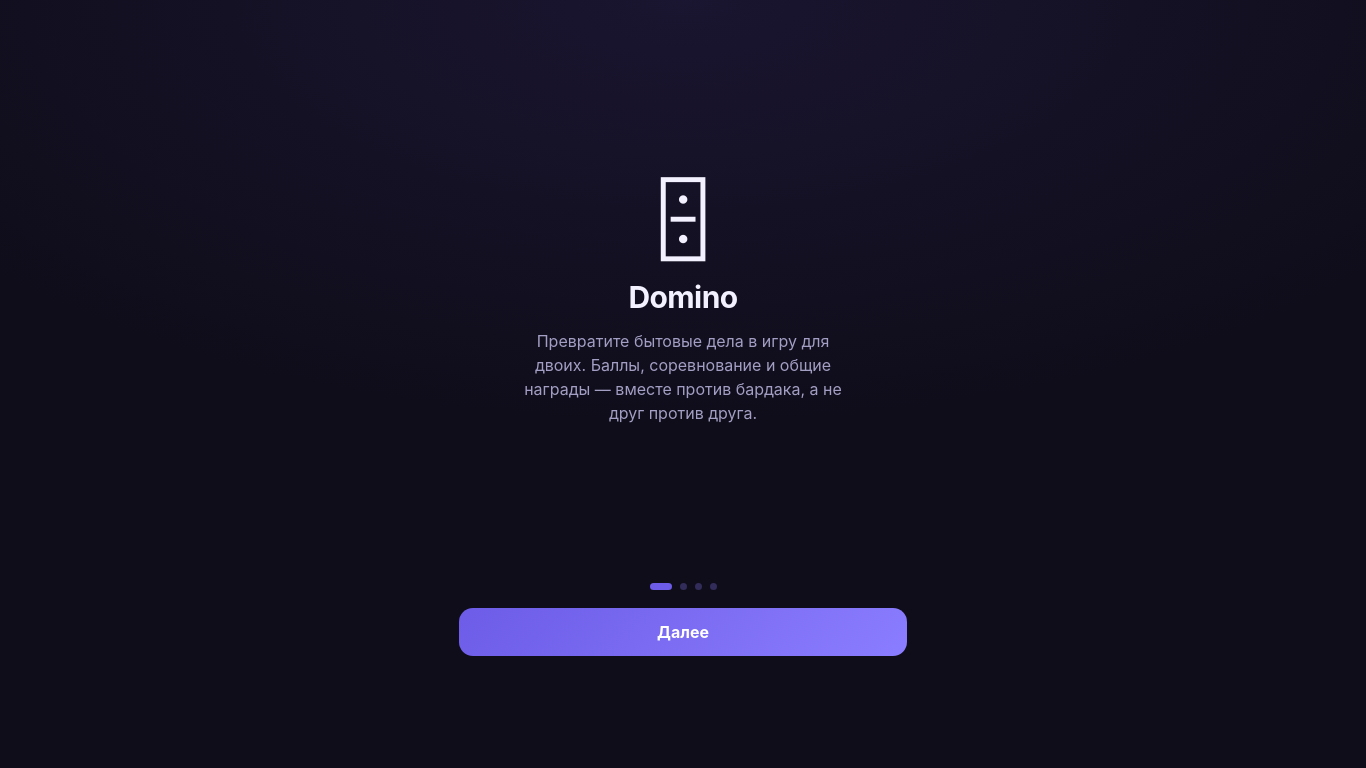
Test: Onboarding flow › walks through steps and starts the app
Check: the heading "Domino" is shown, box [628,279,738,315]
Click the button "Далее". click: (683, 632)
box: [459,608,907,656]
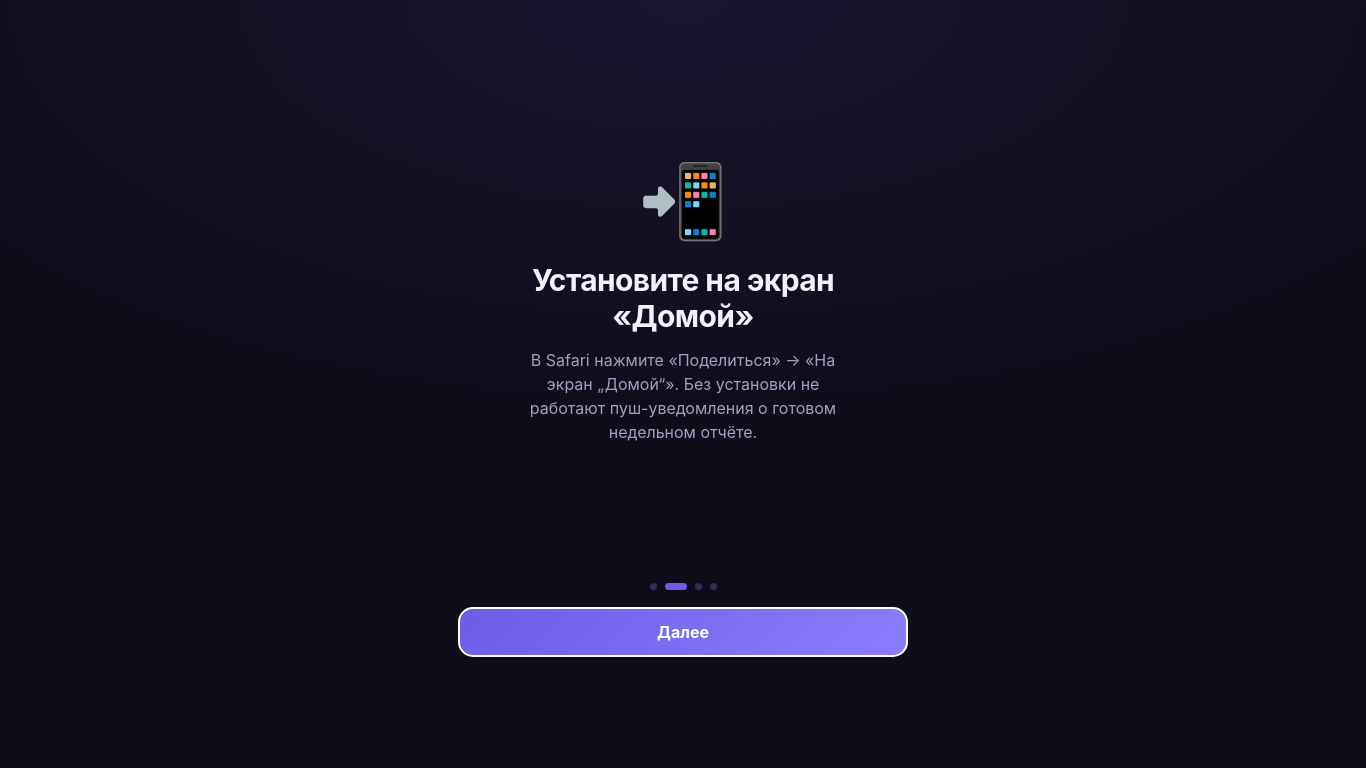
Click the button "Далее". click: (683, 632)
box: [459,608,907,656]
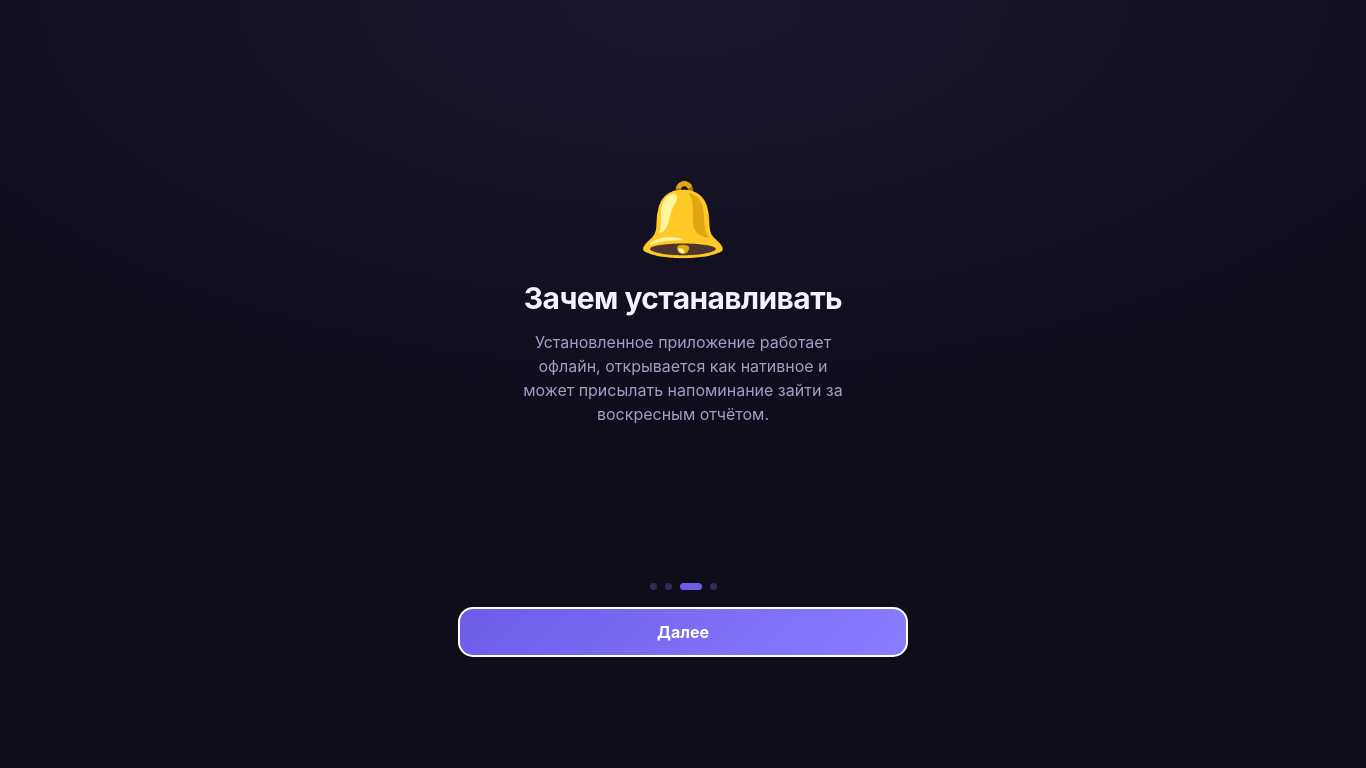
Click the button "Далее". click: (683, 632)
box: [459,608,907,656]
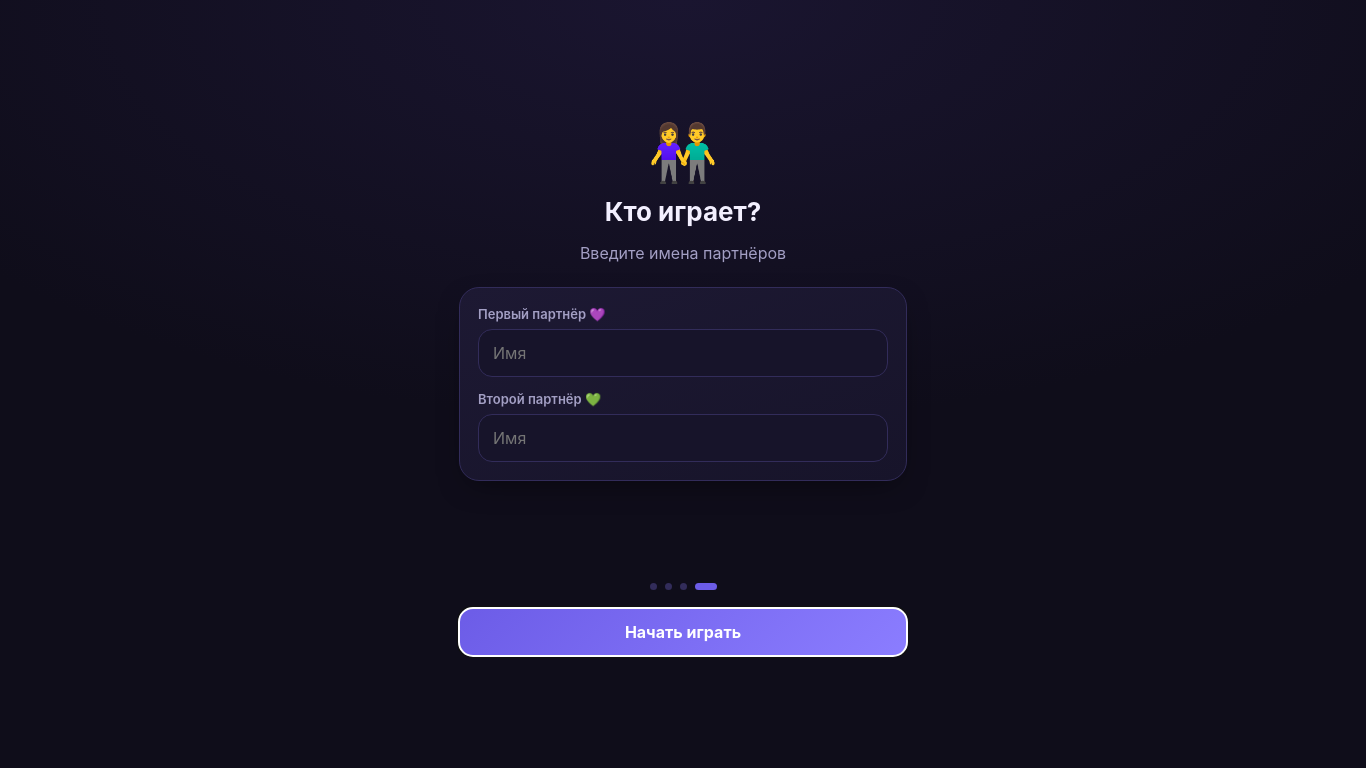
Type "Аня" into the field named "Имя первого партнёра". click: (683, 353)
box: [478,329,888,377]
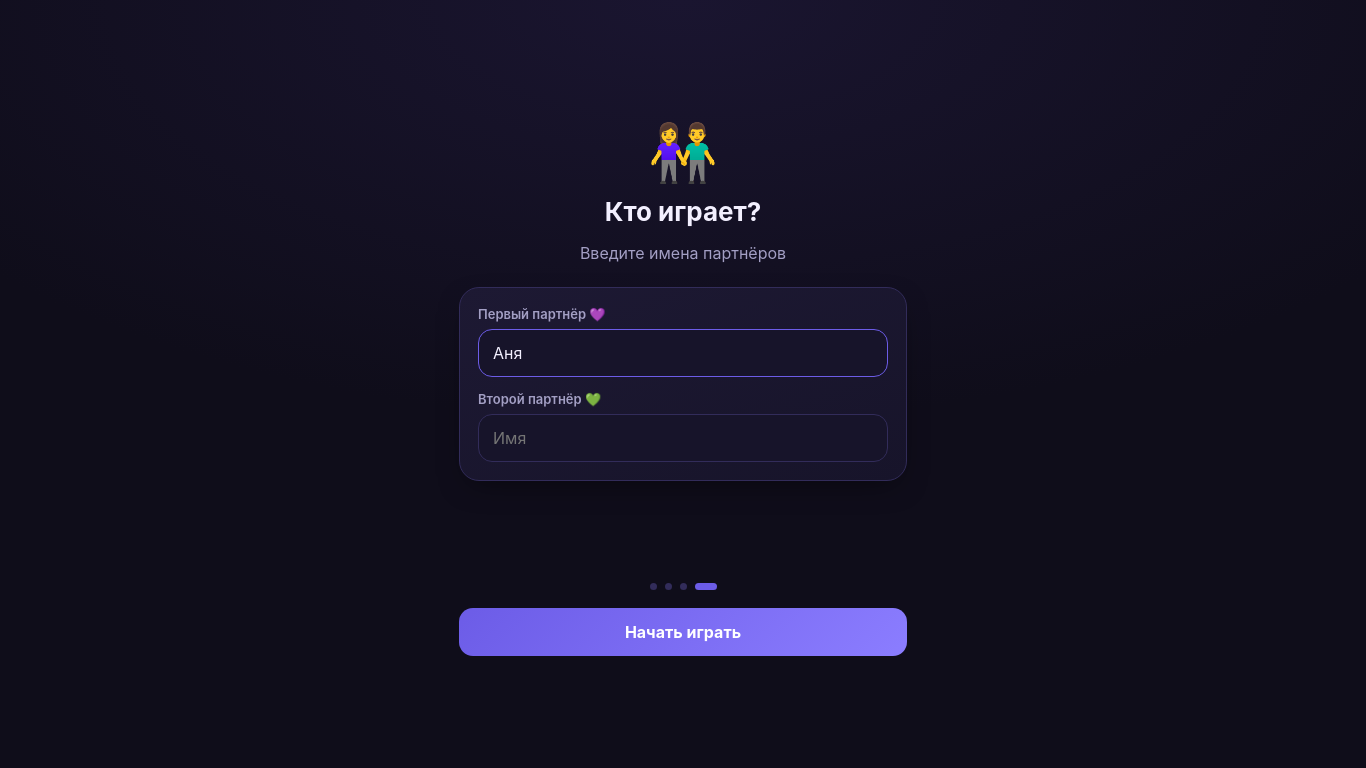
Type "Боря" into the field named "Имя второго партнёра". click: (683, 438)
box: [478,414,888,462]
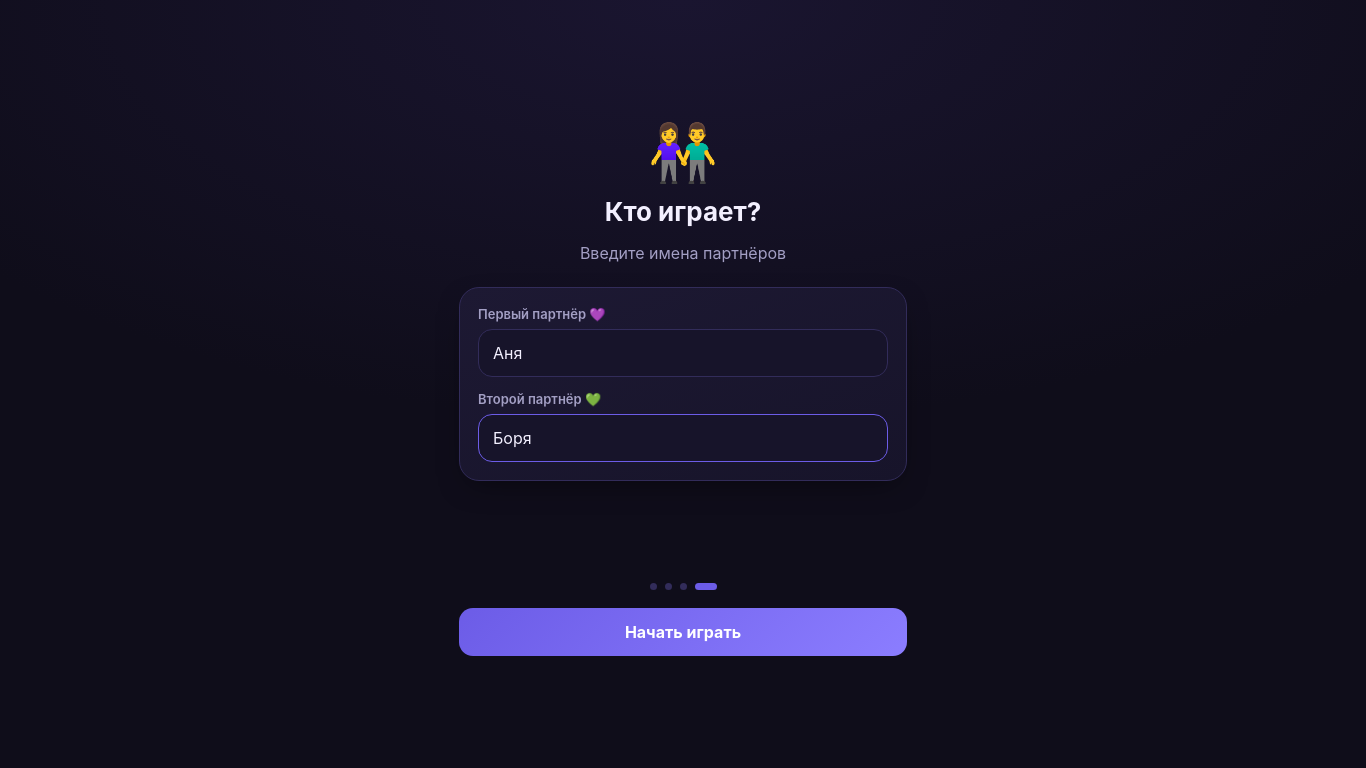
Click the button "Начать играть". click: (683, 632)
box: [459,608,907,656]
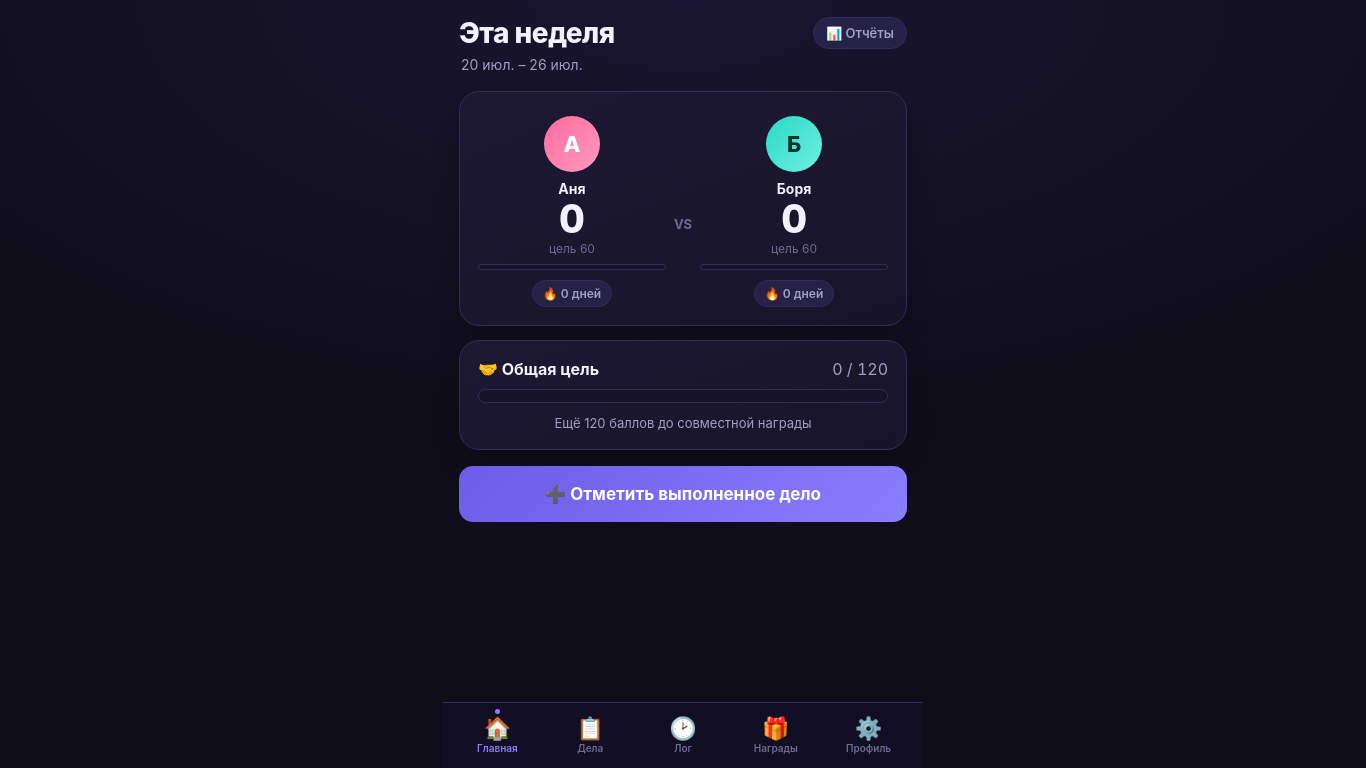
Check: the heading "Эта неделя" is shown, box [459,16,615,50]
Check: the text "Аня" is shown, box [558,180,586,197]
